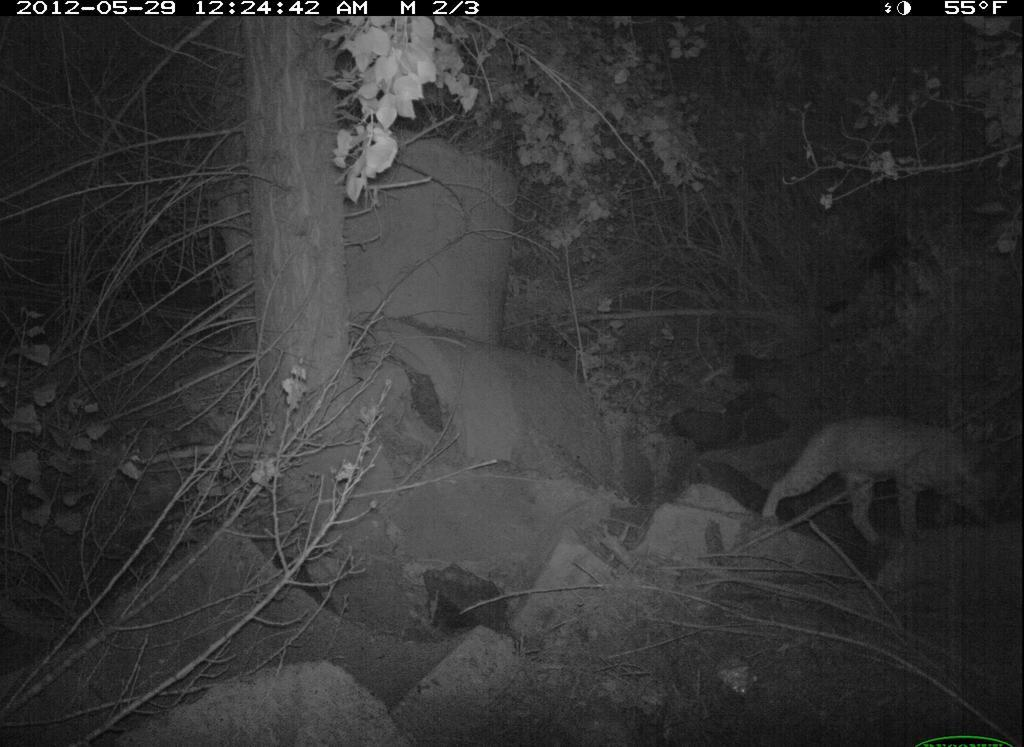bobcat: (753, 391, 1017, 577)
